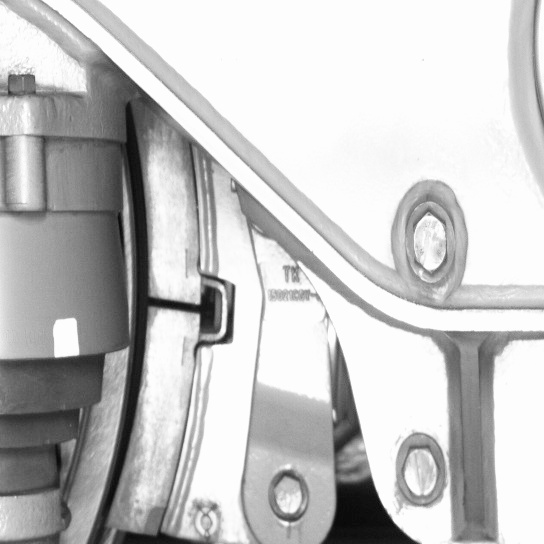KnifeSwitch: (85, 138, 214, 542)
